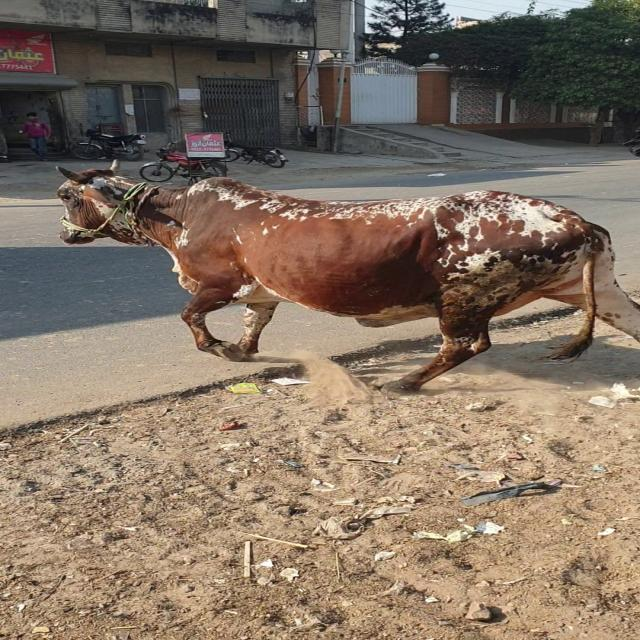cowFace: (48, 164, 90, 241)
